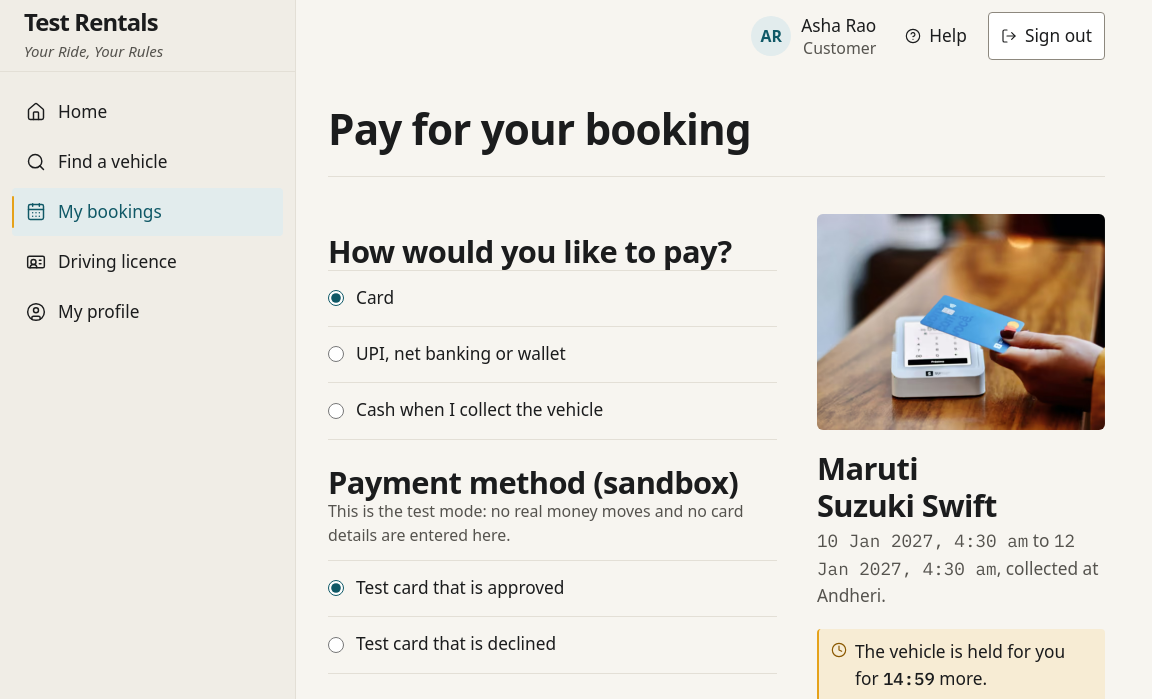
Test: payment (Pay.Authorize, Exp 4 sequence 1) › a wrong password is shown on the password field (SE-9)
Click the radio button labelled "Test card that is approved": (336, 588) [328,580,344,596]
(page scrolled)
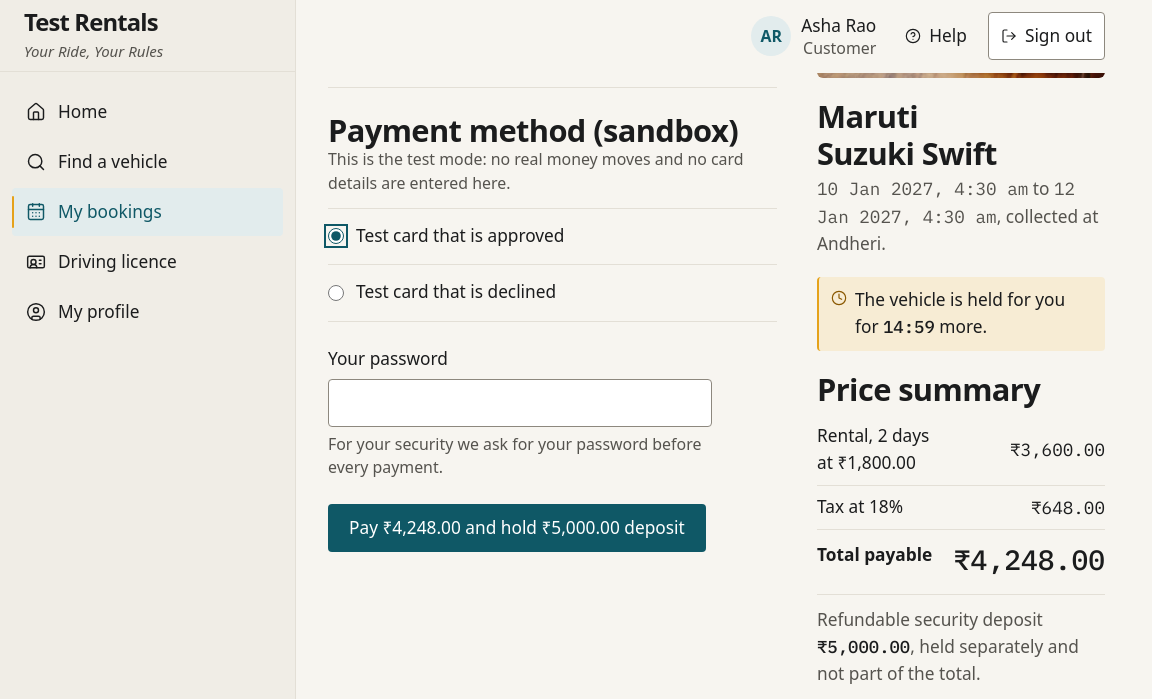
In the password field labelled "Your password": (520, 402) [328,378,712,426], type "wrong-one"
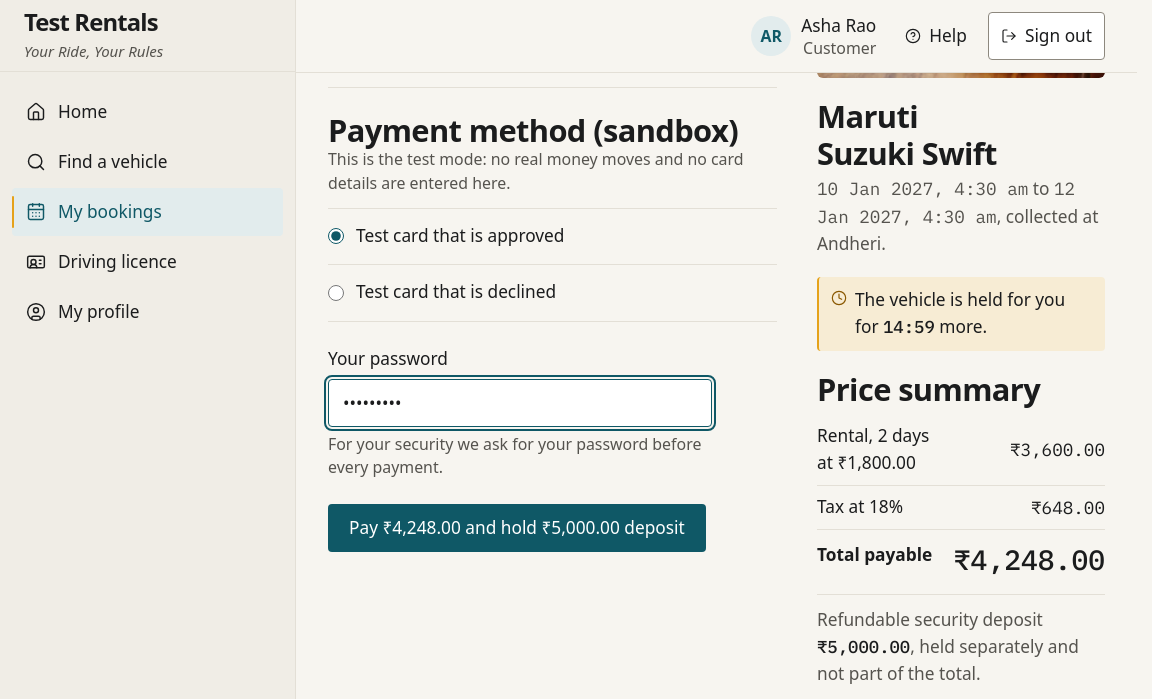
Click the button "Pay ₹4,248.00 and hold ₹5,000.00 deposit": (517, 528) [328,504,706,552]
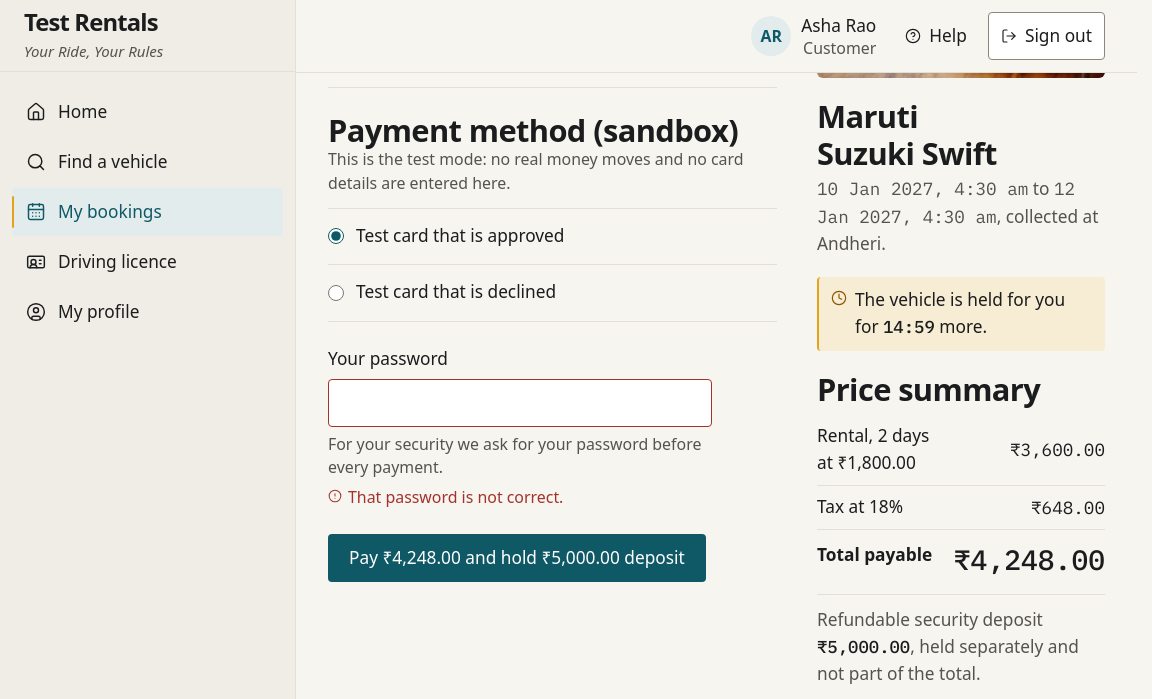
Now the text "That password is not correct." is shown, box [348,486,563,510]
